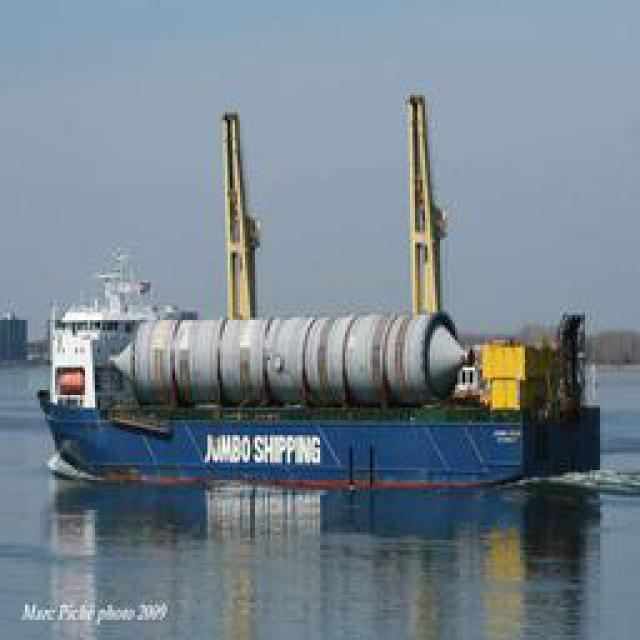Ship: (47, 101, 580, 499)
